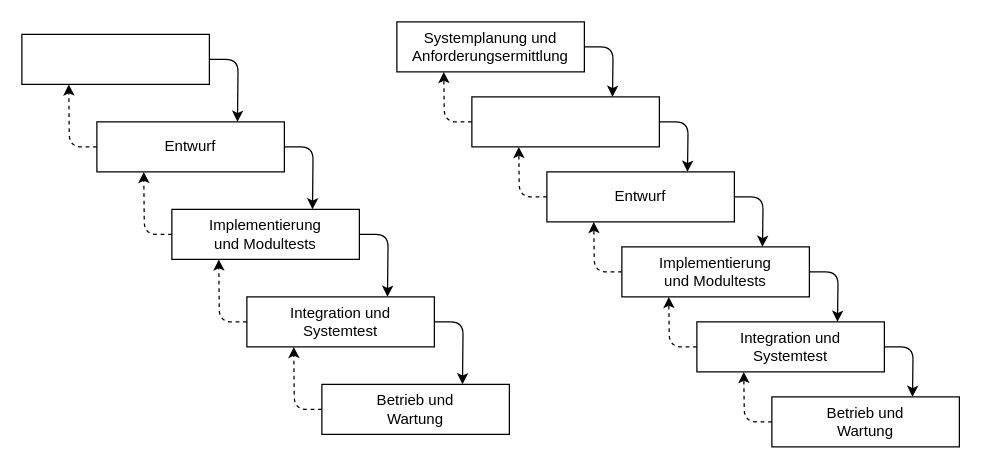
Some shapes in this 981 by 469 pixel diagram are drawn without their labels. The shapes that lost their labels are listed below. From the top down, each one's centre as x and y in pixels, then its label:
At point (115, 58): "Anforderungs- ermittlung/-analyse".
At point (565, 121): "Anforderungsanalyse und Spezifikation".
